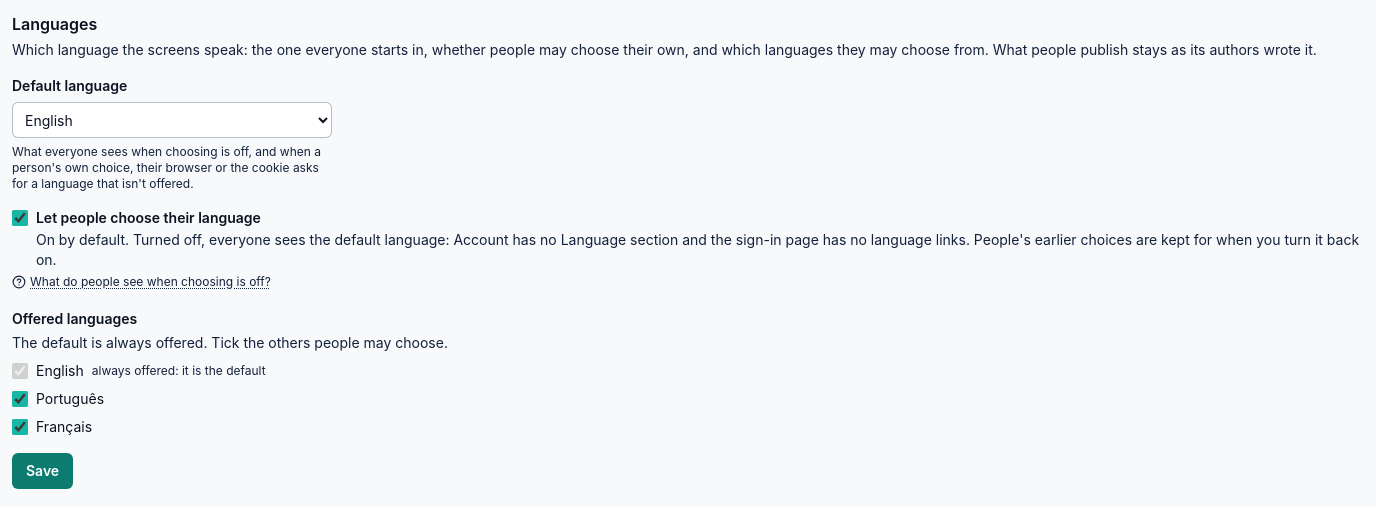
the Languages form (141) › hides the list while choosing is off and shows it again, keeping what was ticked
Click the checkbox labelled "Português" at {"x": 20, "y": 399}, box [12, 391, 28, 407]
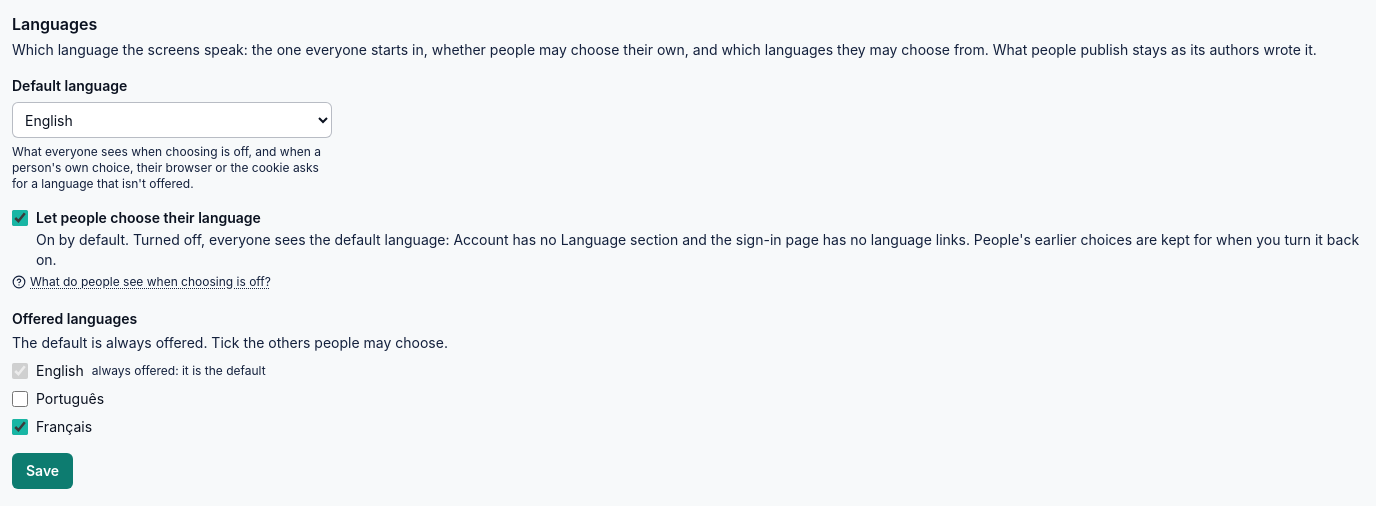
Click the checkbox with id "language-choice" at {"x": 20, "y": 218}, box [12, 210, 28, 226]
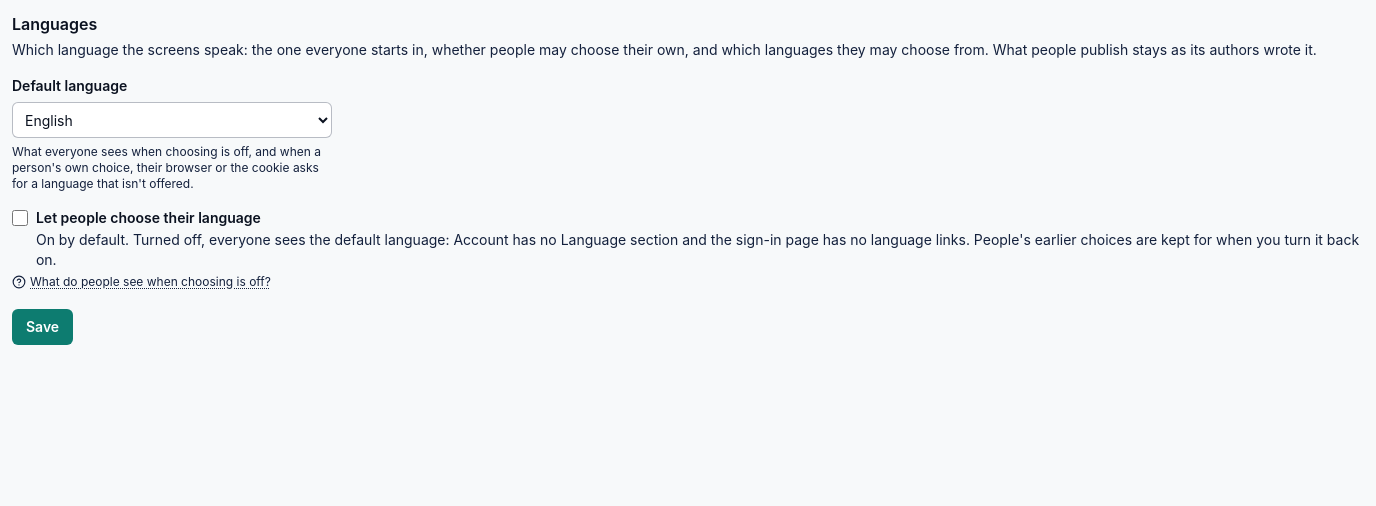
Click the checkbox with id "language-choice" at {"x": 20, "y": 218}, box [12, 210, 28, 226]
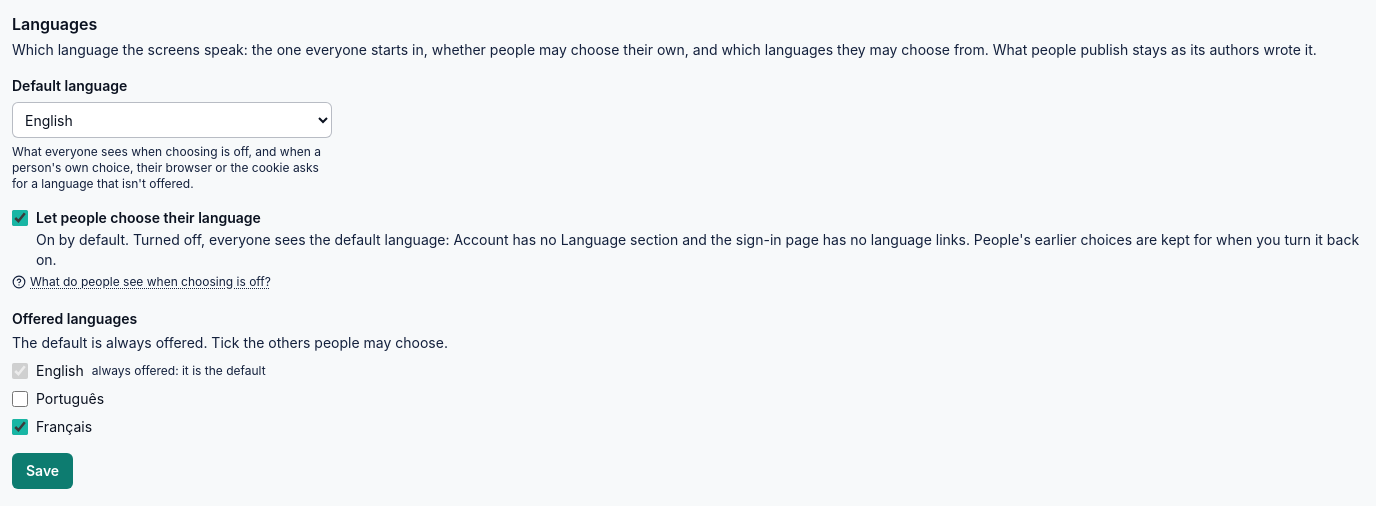
Check: the checkbox labelled "Português" is not checked, box [12, 391, 28, 407]
Check: the checkbox labelled "Français" is checked, box [12, 419, 28, 435]
